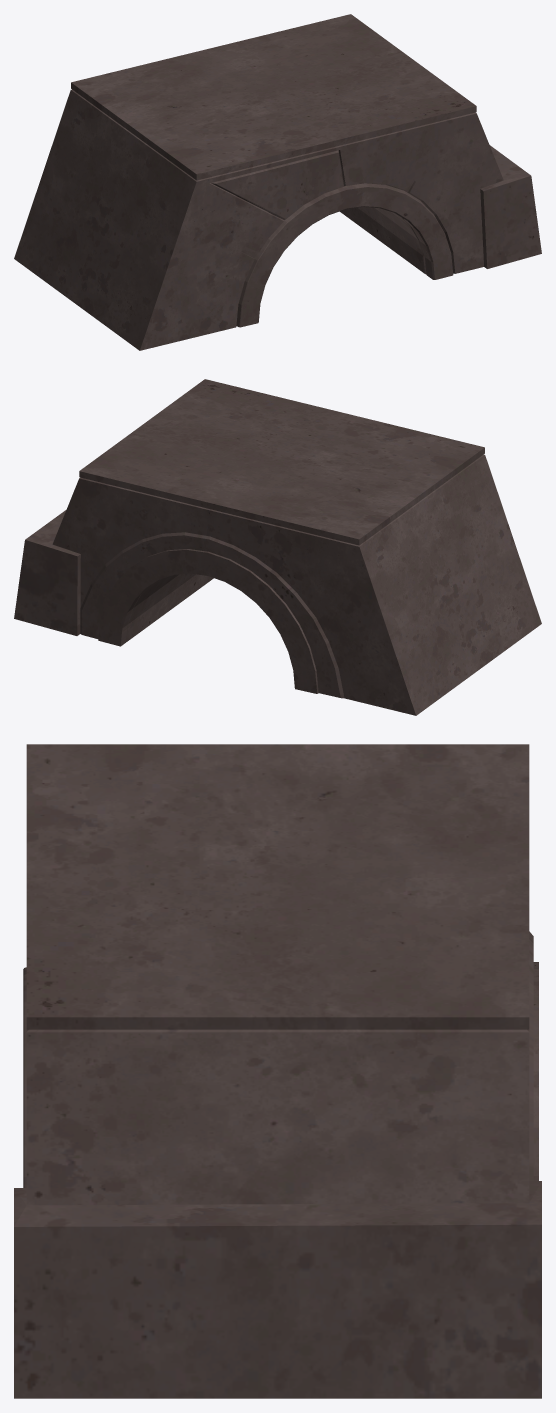
File: Archway.fbx
3 renders of one model, top to bottom at view 1: azimuth 30°, elevation 25°; view 2: azimuth 150°, elevation 25°; view 3: azimuth 270°, elevation 25°, orthographic. The views are drawn at different scales.
Visible parts, largest first — view 1: SM_ENV_STRUCT_ScrapYard_Archway_01.mo; view 2: SM_ENV_STRUCT_ScrapYard_Archway_01.mo; view 3: SM_ENV_STRUCT_ScrapYard_Archway_01.mo.
Boxes of the visible parts, x1,y1,x2,y2 form: SM_ENV_STRUCT_ScrapYard_Archway_01.mo: (14, 14, 541, 350); SM_ENV_STRUCT_ScrapYard_Archway_01.mo: (14, 379, 541, 715); SM_ENV_STRUCT_ScrapYard_Archway_01.mo: (14, 744, 541, 1398).
Bounding box in the file's own units: 1390 × 546 × 797.
3 materials, 3 textured.
